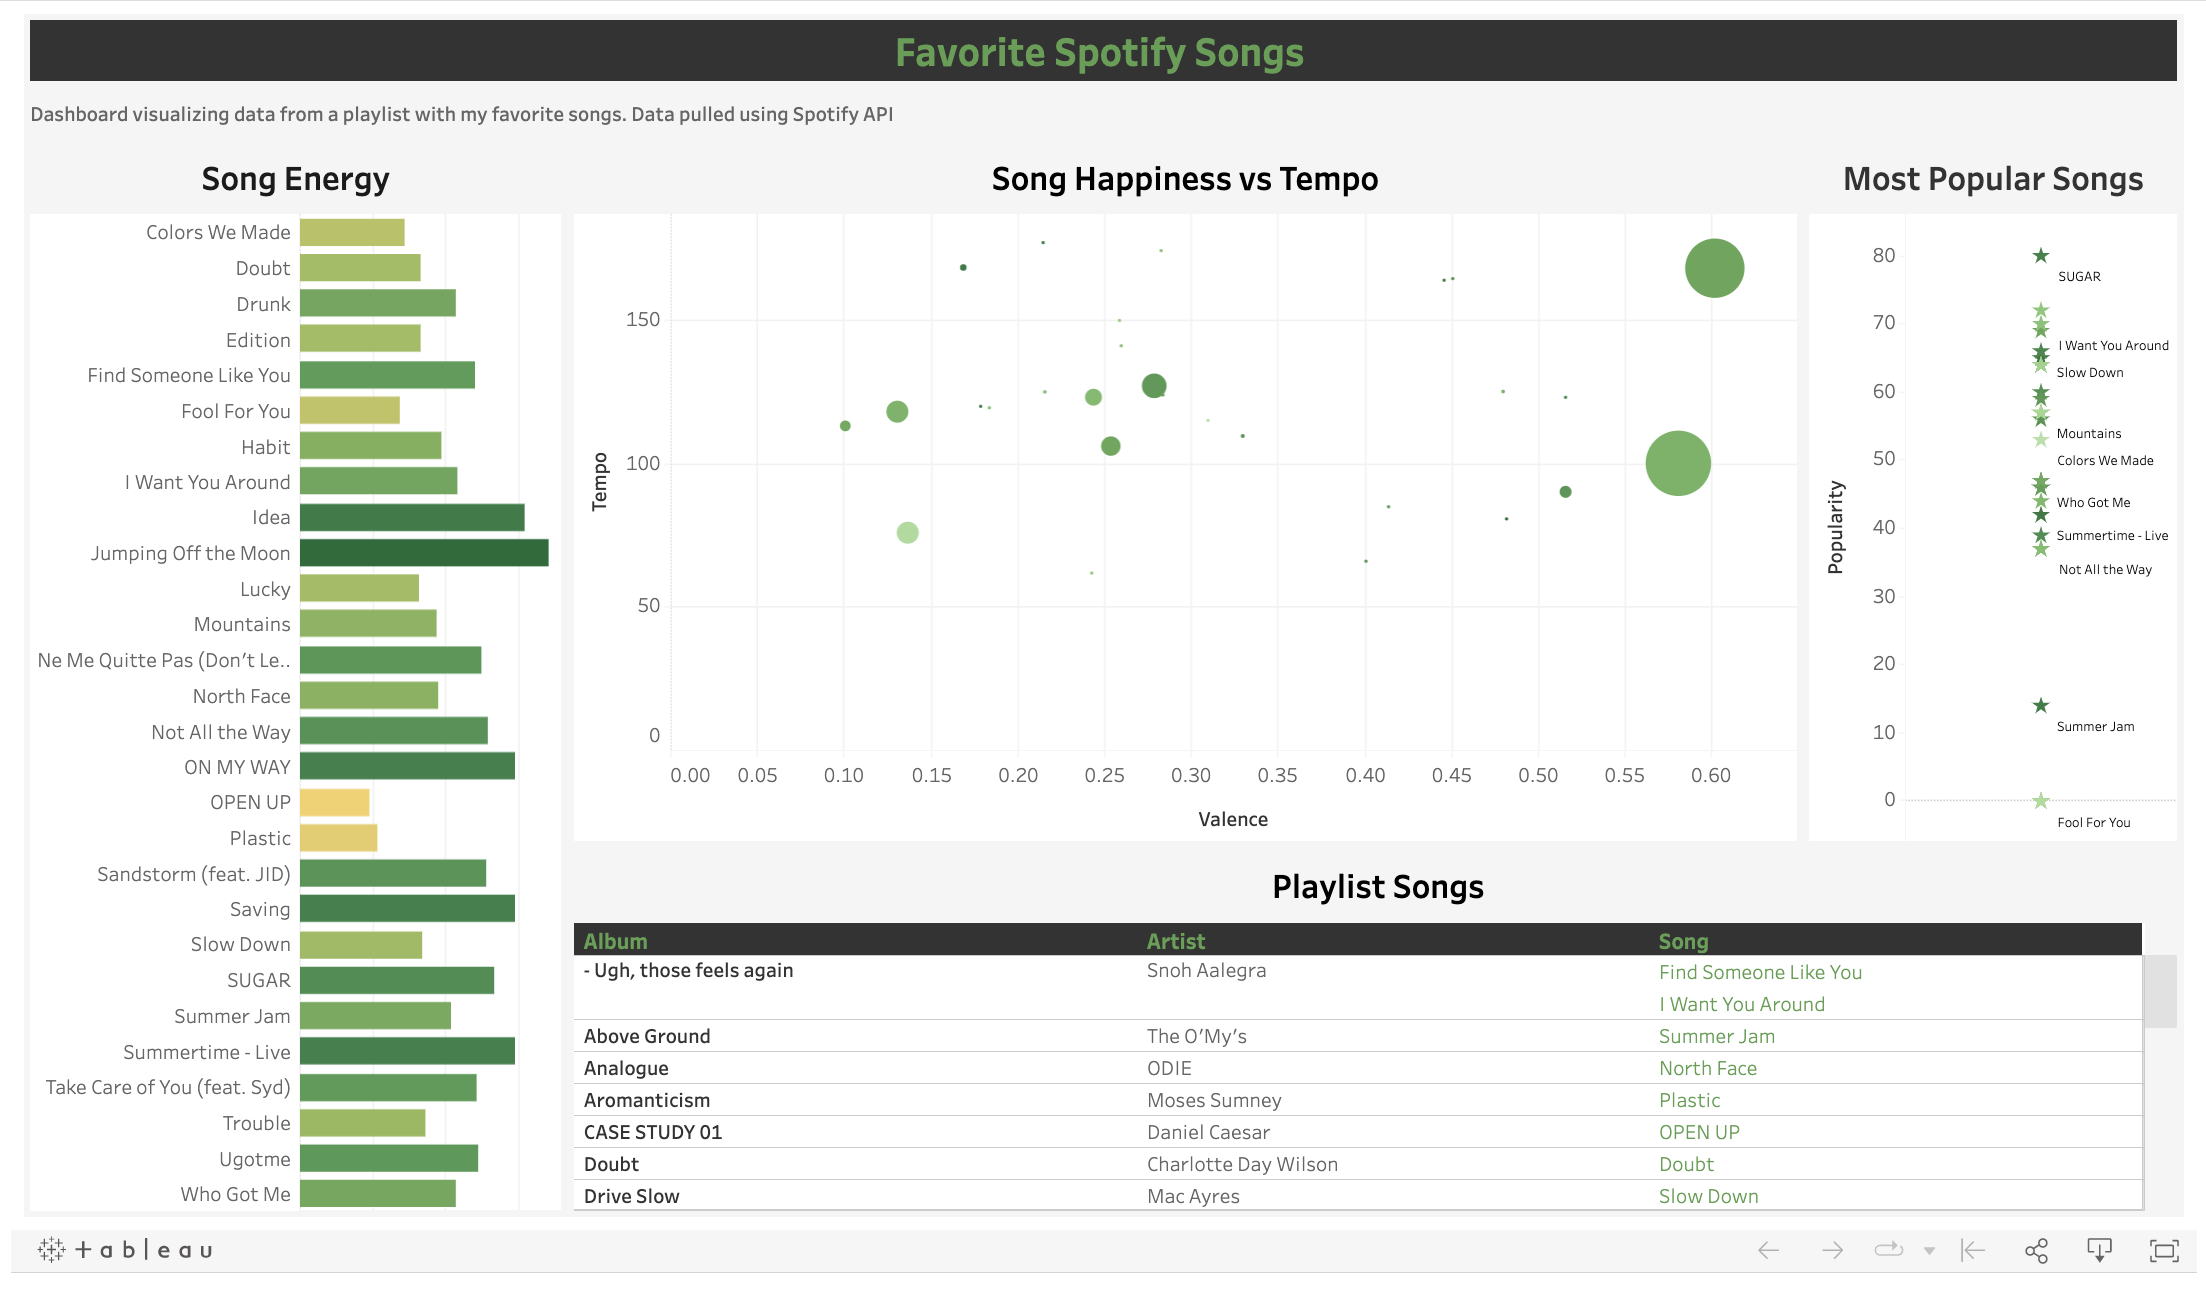

This screenshot's page, from the dashboard's own definition file:
{"tool":"tableau","page":{"name":"Favorite Spotify Songs","canvas":[1366,768],"ordinal":0},"visuals":[{"type":"text","box":[8,8,1350,46]},{"type":"text","box":[8,54,1350,32]},{"type":"worksheet","title":"Energy Bar Chart","mark":"Automatic","rows":["name"],"cols":["energy"],"box":[8,86,340,674]},{"type":"worksheet","title":"Song Happiness vs Tempo","mark":"Automatic","rows":["tempo"],"cols":["valence"],"box":[348,86,772,443]},{"type":"worksheet","title":"Most Popular Songs","mark":"Shape","rows":["popularity"],"cols":["Calculation_59039402110140416"],"box":[1120,86,238,443]},{"type":"worksheet","title":"Song List","mark":"Automatic","rows":["album","artist","name"],"box":[348,529,1010,231]}]}

Visuals, with their boxes on the page's 1366x768 design canvas (x1, y1, x2, y2). These are canvas units, not pixel positions in the 2206x1292 screenshot, which may show the page scaled, cropped or inside an application window:
text: bbox=(8, 8, 1358, 54)
text: bbox=(8, 54, 1358, 86)
"Energy Bar Chart" worksheet: bbox=(8, 86, 348, 760)
"Song Happiness vs Tempo" worksheet: bbox=(348, 86, 1120, 529)
"Most Popular Songs" worksheet (Shape marks): bbox=(1120, 86, 1358, 529)
"Song List" worksheet: bbox=(348, 529, 1358, 760)
